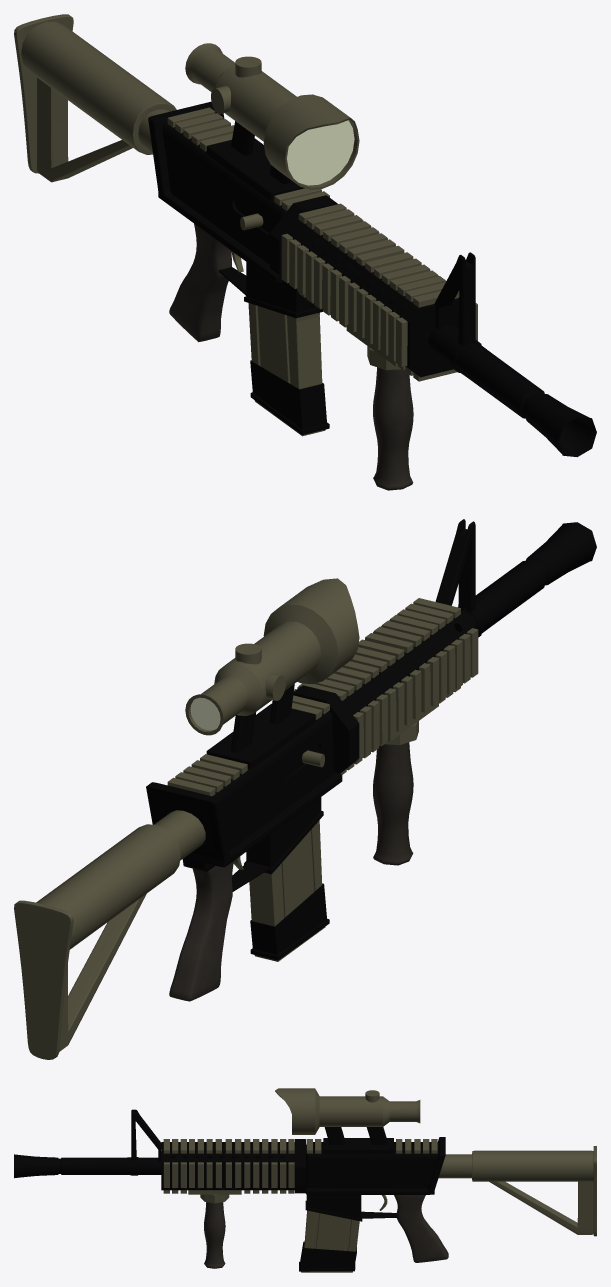
The model's file is Rifle.fbx.
3 renders of one model, top to bottom at view 1: azimuth 30°, elevation 25°; view 2: azimuth 150°, elevation 25°; view 3: azimuth 270°, elevation 25°, orthographic. The views are drawn at different scales.
Visible parts, largest first — view 1: Rifle; view 2: Rifle; view 3: Rifle.
Part boxes in pixels (x1,y1,x2,y2): Rifle: (14,14,596,490); Rifle: (14,519,596,1059); Rifle: (14,1088,596,1272).
Bounding box in the file's own units: 9.23 × 36.23 × 107.
